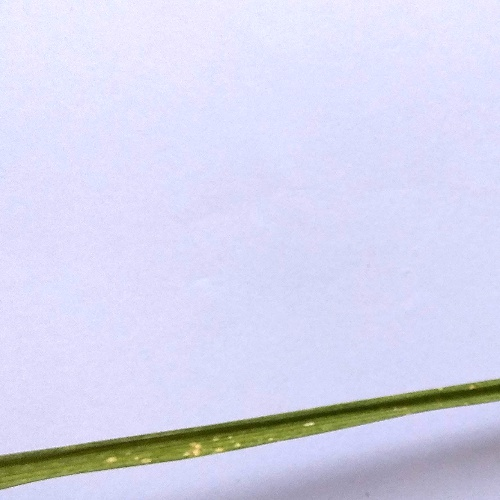Busuk Leher: (172, 436, 203, 463), (296, 413, 316, 434), (104, 450, 122, 470), (135, 450, 152, 468), (215, 436, 228, 456)
